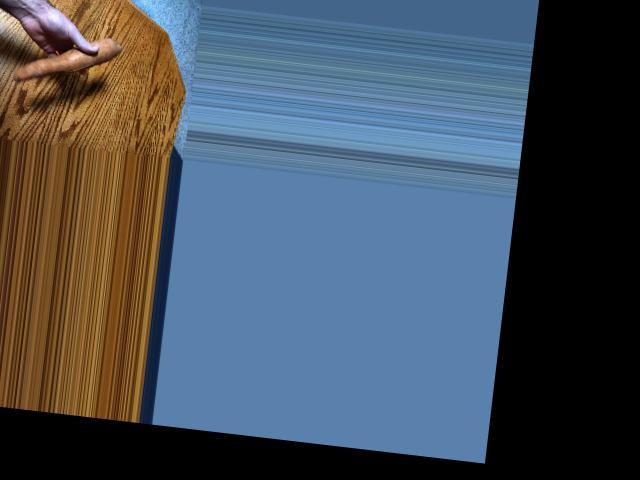sweet_potato: (12, 39, 124, 86)
